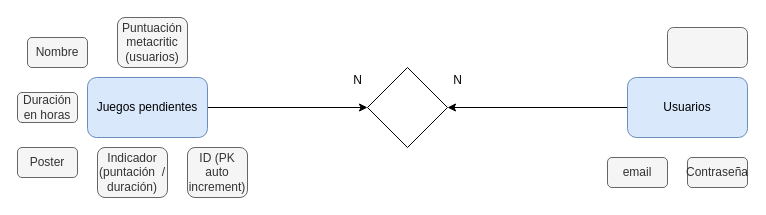
Image size: 766x215. Some labels were removed from this diagram. The shapes that lost their labels are listed below. From the top down, each one's centre as x and y in pixels, then its label:
At point (707, 47): "Nombre de usuario (PK)".
At point (407, 107): "Añade".
